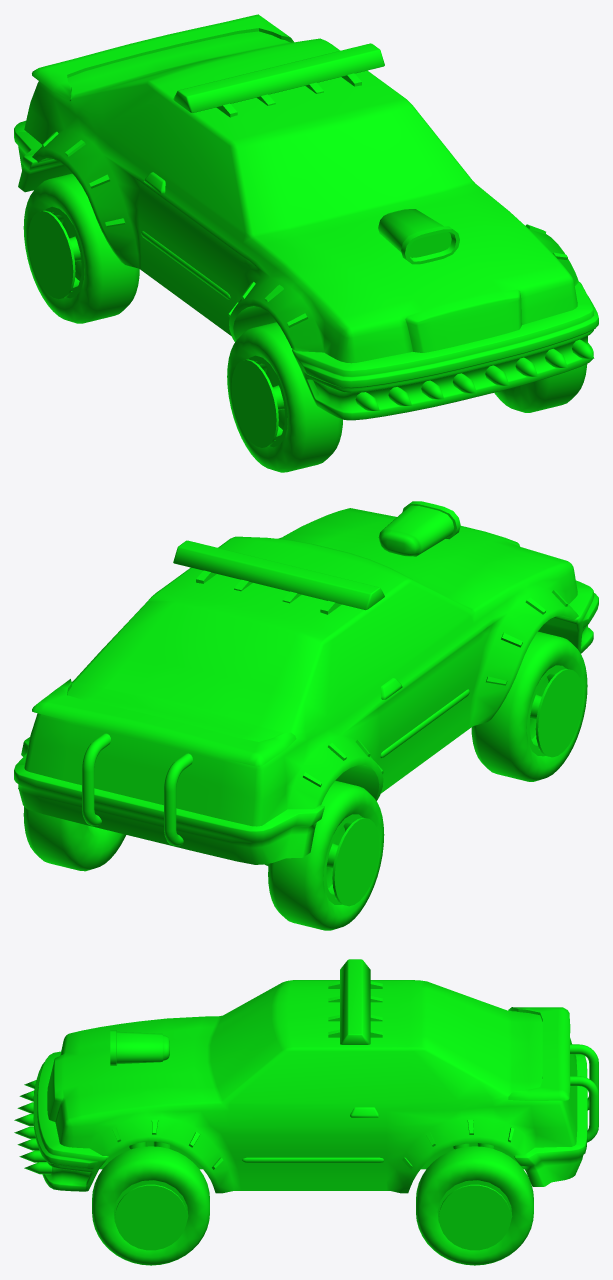
The model's file is Car_03.fbx.
The picture shows the model from 3 angles, top to bottom: view 1: azimuth 30°, elevation 25°; view 2: azimuth 150°, elevation 25°; view 3: azimuth 270°, elevation 25°; orthographic projection. The views are drawn at different scales.
Visible parts, largest first — view 1: Car_03_Body, RR, FR, FL; view 2: Car_03_Body, FR, RR, RL; view 3: Car_03_Body, RL, FL.
Boxes of the visible parts, box(x1,y1,x2,y2) form: Car_03_Body: box(14, 14, 598, 420); RR: box(23, 173, 139, 323); FR: box(227, 322, 342, 472); FL: box(494, 364, 587, 412); Car_03_Body: box(14, 501, 598, 865); FR: box(471, 631, 587, 781); RR: box(268, 780, 384, 930); RL: box(23, 807, 125, 871); Car_03_Body: box(14, 959, 598, 1193); RL: box(416, 1146, 533, 1265); FL: box(92, 1146, 209, 1265).
Bounding box in the file's own units: 283 × 587 × 238.
